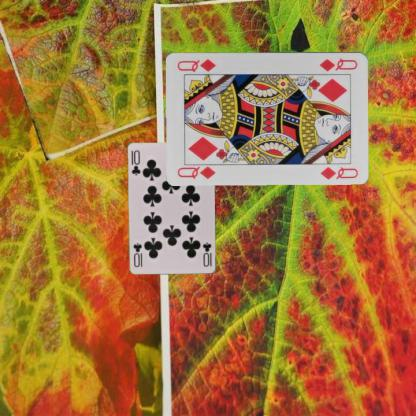10c: (129, 148, 141, 177), (200, 240, 212, 268)
Qd: (175, 160, 220, 180), (317, 55, 359, 73)
